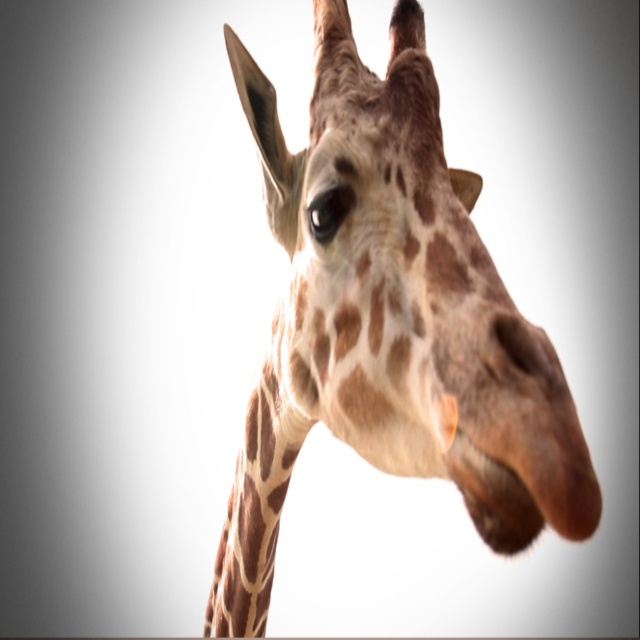Giraffe: (204, 0, 603, 638)
